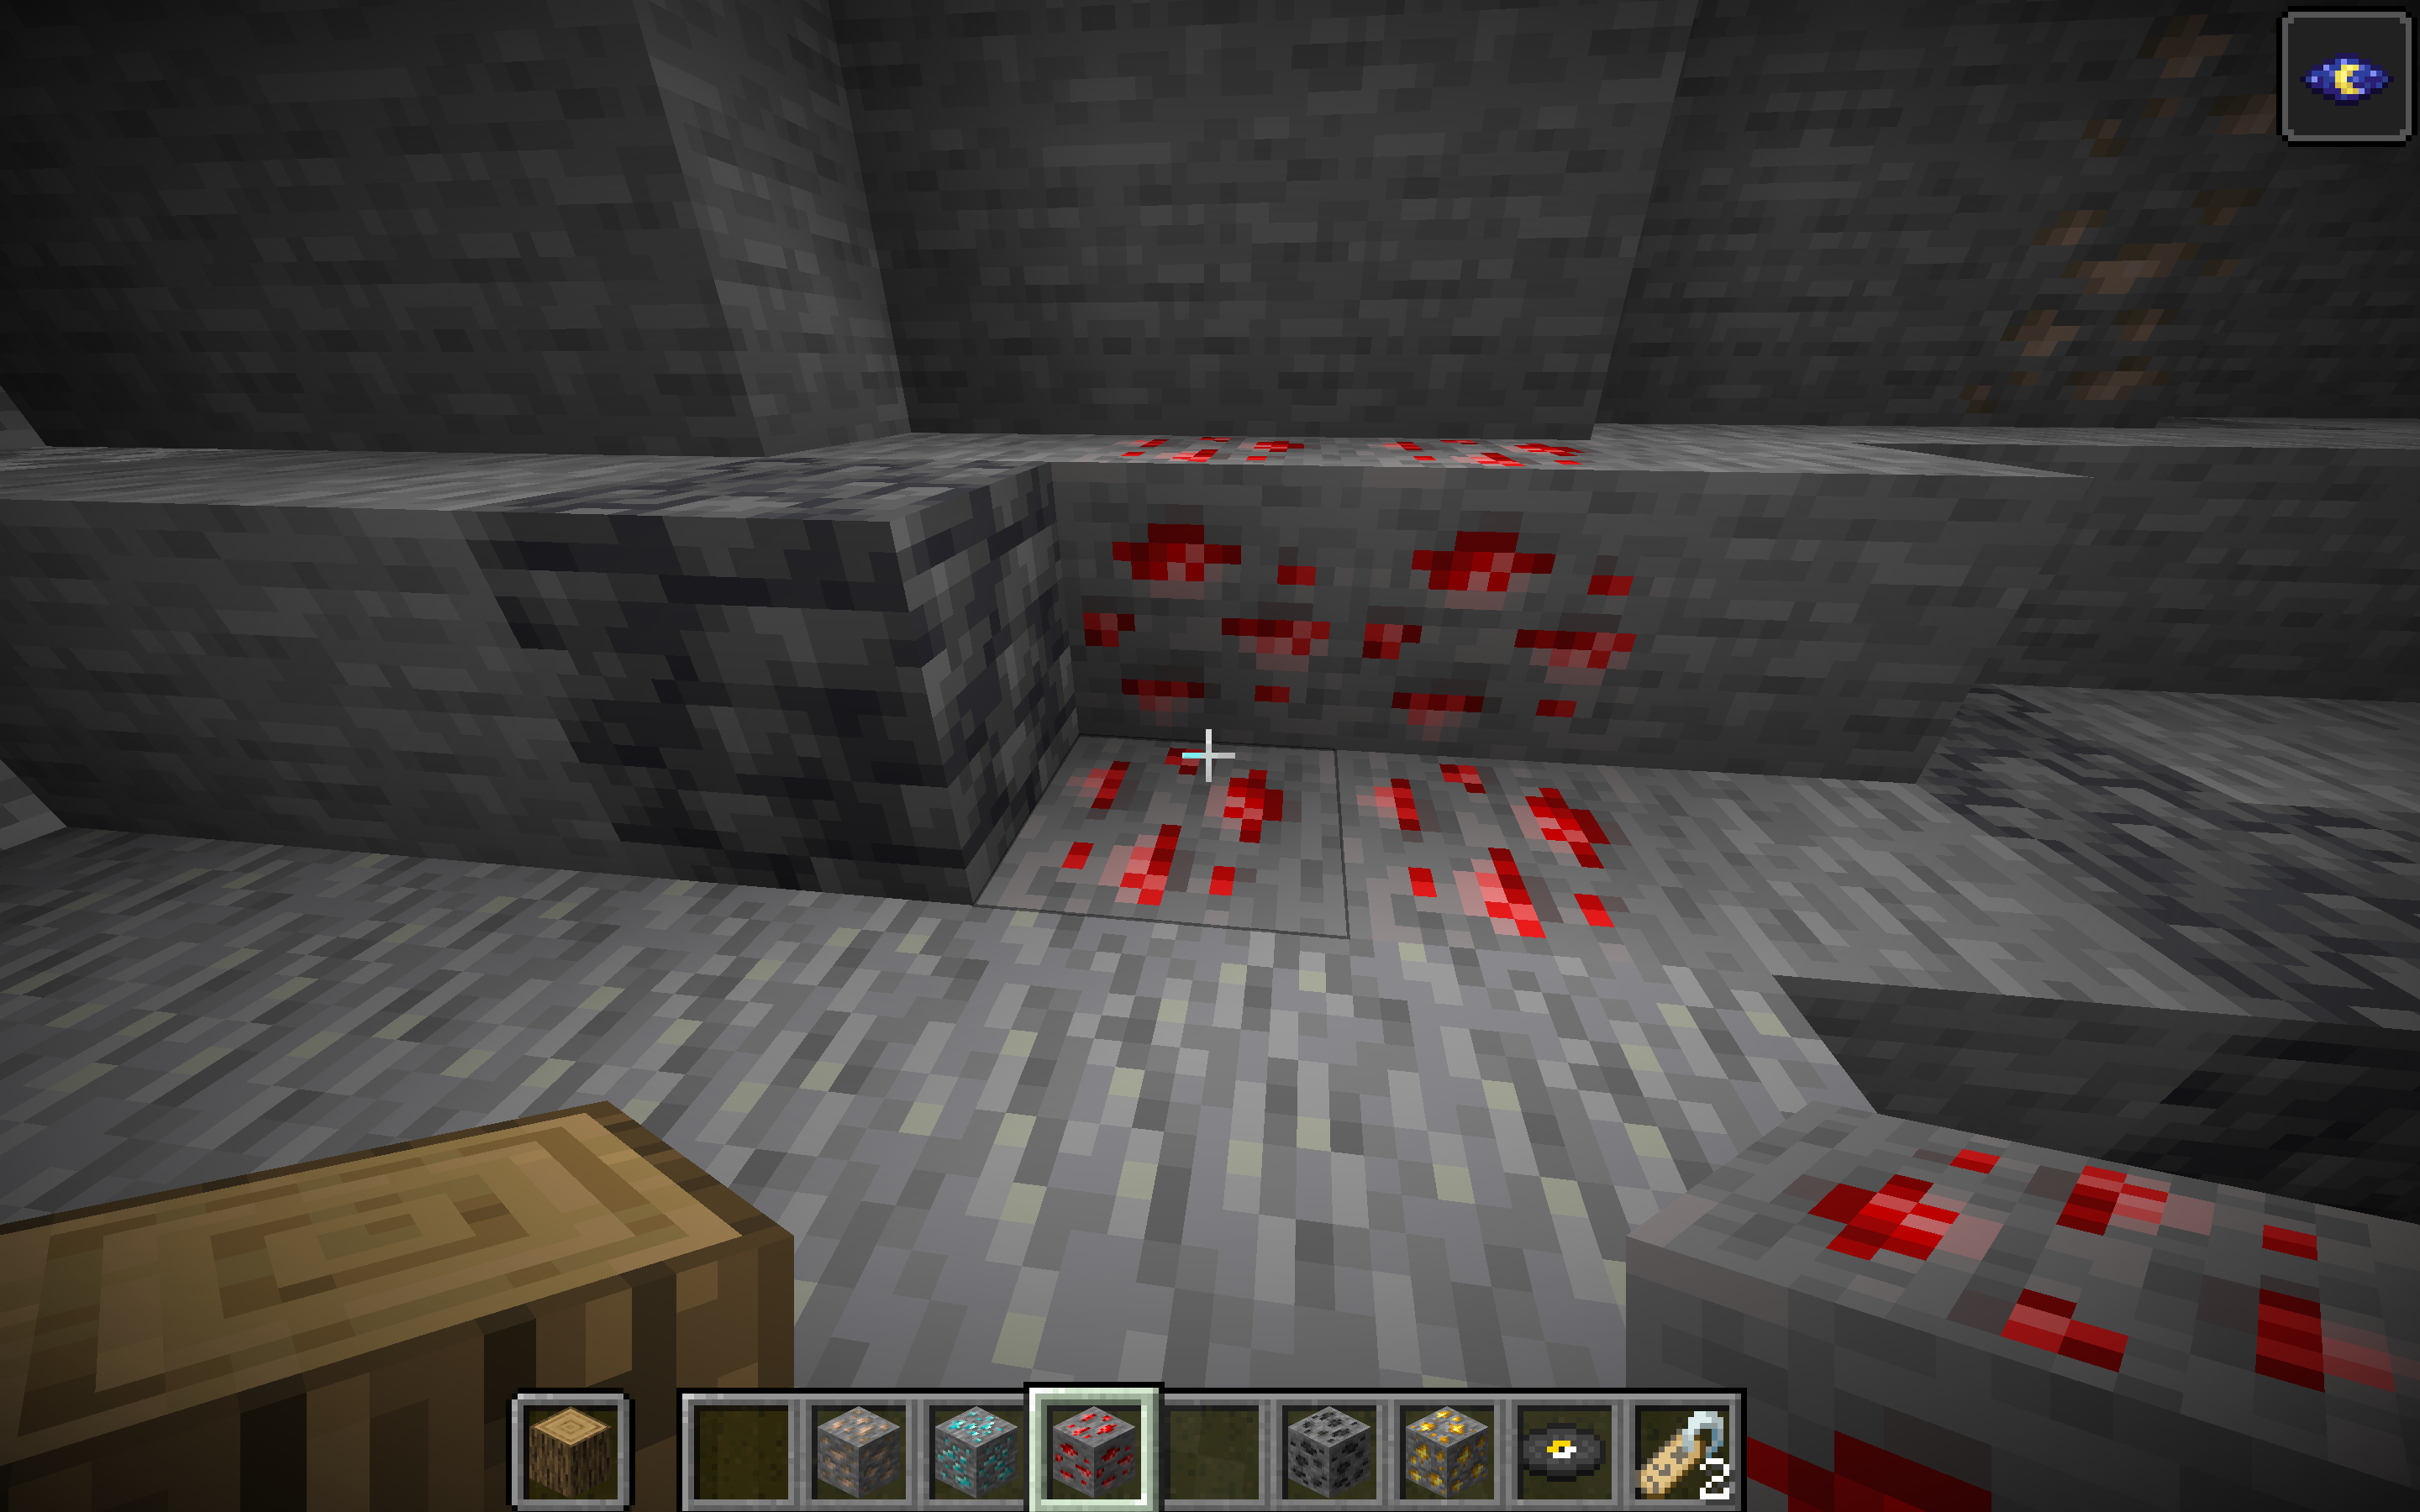redstone: (355, 30, 1965, 1110)
